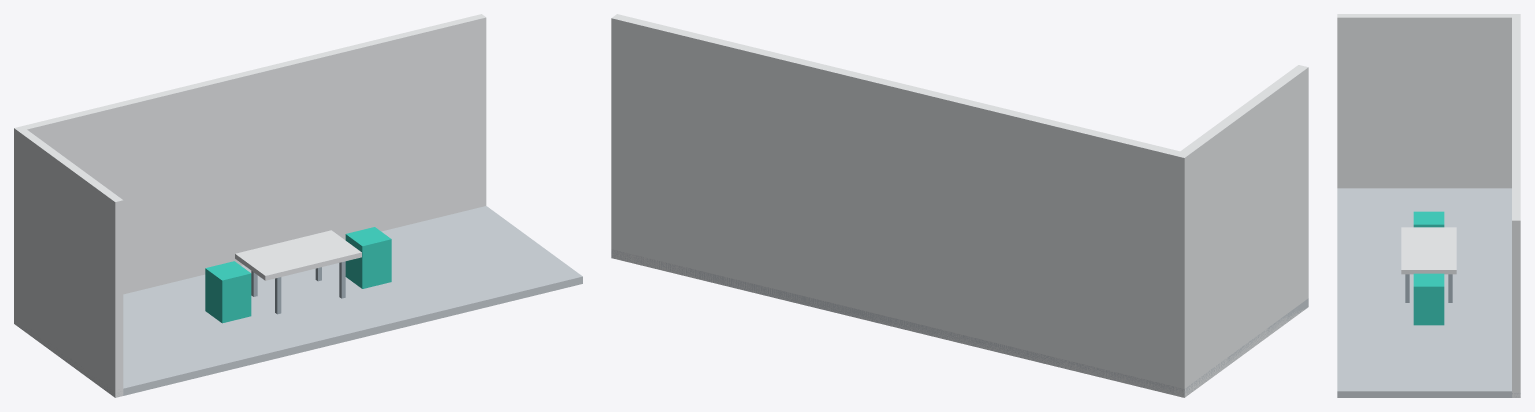
The picture shows the model from 3 angles, left to right: view 1: azimuth 30°, elevation 25°; view 2: azimuth 150°, elevation 25°; view 3: azimuth 270°, elevation 25°; orthographic projection. The views are drawn at different scales.
Visible parts, largest first — view 1: Exhibition Booth Concept; view 2: Exhibition Booth Concept; view 3: Exhibition Booth Concept.
Part boxes in pixels (x1,y1,x2,y2): Exhibition Booth Concept: [14, 14, 582, 397]; Exhibition Booth Concept: [611, 14, 1308, 397]; Exhibition Booth Concept: [1337, 14, 1520, 397].
Size of the model in its own units: 8 by 3.2 by 3.
